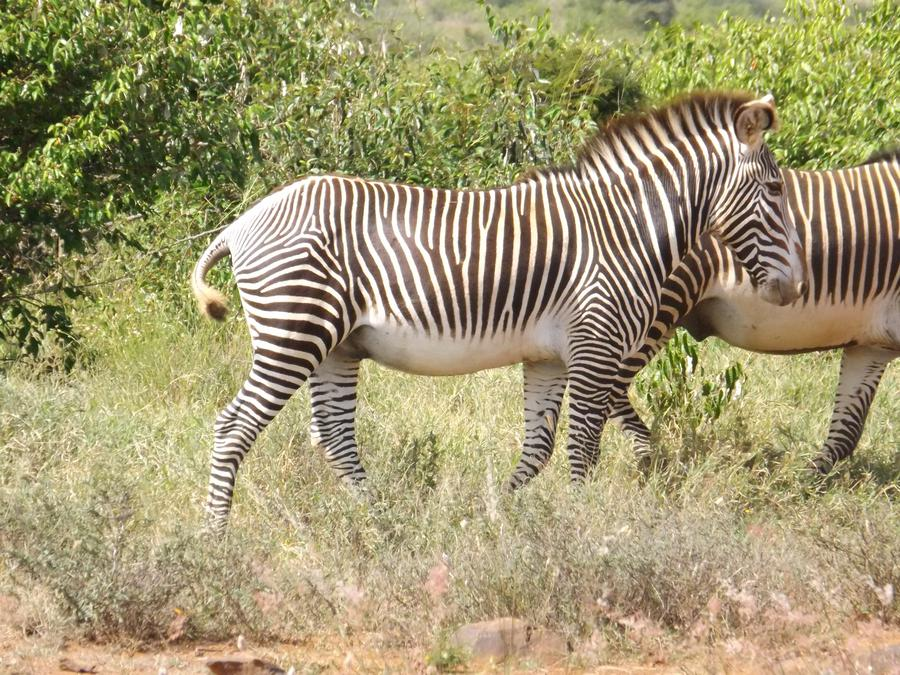zebra_grevys: (220, 175, 616, 362)
